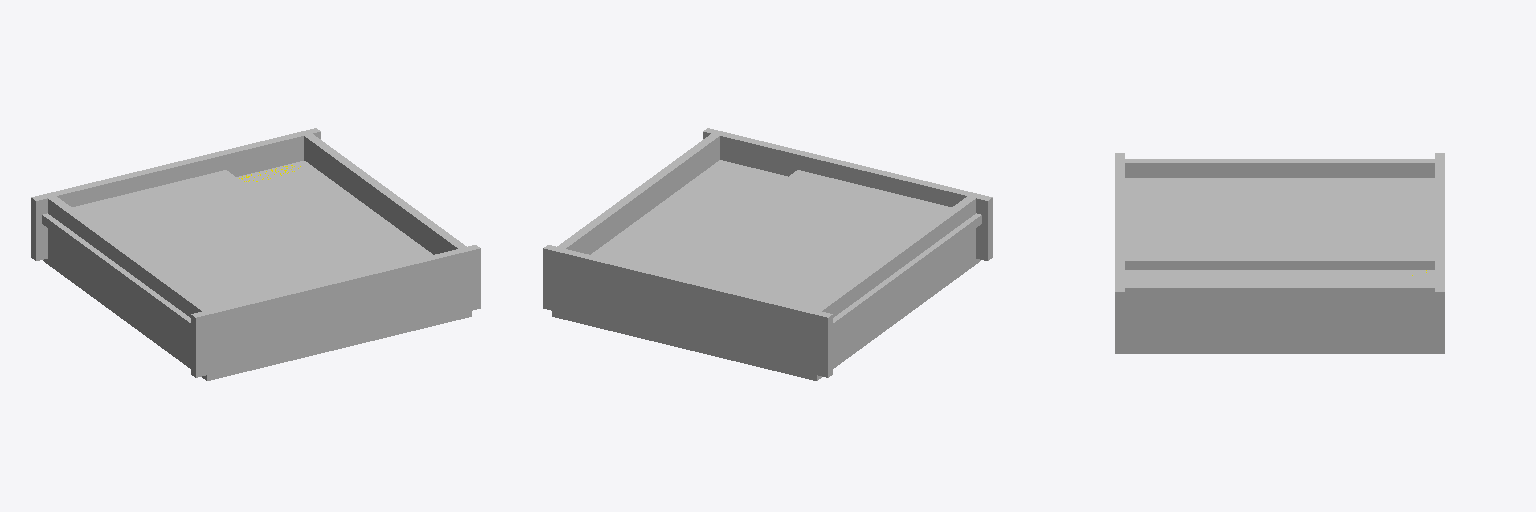
3 views of the same model, side by side, from view 1: azimuth 30°, elevation 25°; view 2: azimuth 150°, elevation 25°; view 3: azimuth 270°, elevation 25° (orthographic).
Visible parts, largest first — view 1: entity0_brush2, entity0_brush5, entity4_brush0, entity0_brush3, entity0_brush4, entity0_brush1, entity0_brush0; view 2: entity0_brush2, entity0_brush4, entity4_brush0, entity0_brush3, entity0_brush5, entity0_brush1, entity0_brush0; view 3: entity0_brush2, entity0_brush1, entity0_brush3, entity4_brush0, entity0_brush5, entity0_brush4, entity0_brush0.
Boxes of the visible parts, <box> form: entity0_brush2: <box>42,170,364,331</box>; entity0_brush5: <box>191,245,480,377</box>; entity4_brush0: <box>237,161,432,271</box>; entity0_brush3: <box>43,193,215,373</box>; entity0_brush4: <box>31,128,320,260</box>; entity0_brush1: <box>299,130,471,312</box>; entity0_brush0: <box>43,259,471,380</box>; entity0_brush2: <box>638,170,981,338</box>; entity0_brush4: <box>543,245,832,377</box>; entity4_brush0: <box>591,160,787,271</box>; entity0_brush3: <box>808,193,980,374</box>; entity0_brush5: <box>703,128,992,260</box>; entity0_brush1: <box>552,131,724,312</box>; entity0_brush0: <box>552,259,980,380</box>; entity0_brush2: <box>1125,178,1434,269</box>; entity0_brush1: <box>1115,284,1444,347</box>; entity0_brush3: <box>1115,159,1444,177</box>; entity4_brush0: <box>1125,270,1432,283</box>; entity0_brush5: <box>1115,153,1124,352</box>; entity0_brush4: <box>1435,153,1444,352</box>; entity0_brush0: <box>1115,270,1444,353</box>.
Bounding box in the file's own units: 1584 × 352 × 1584.
4 materials, 1 textured.